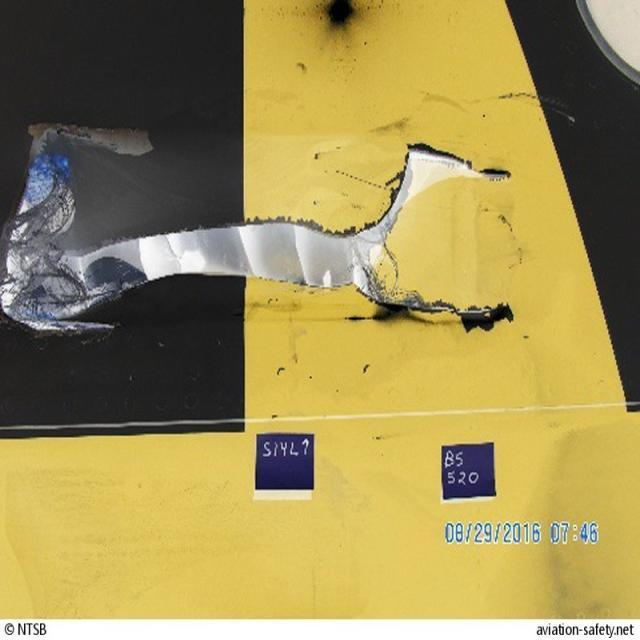crack: (388, 291, 510, 319)
